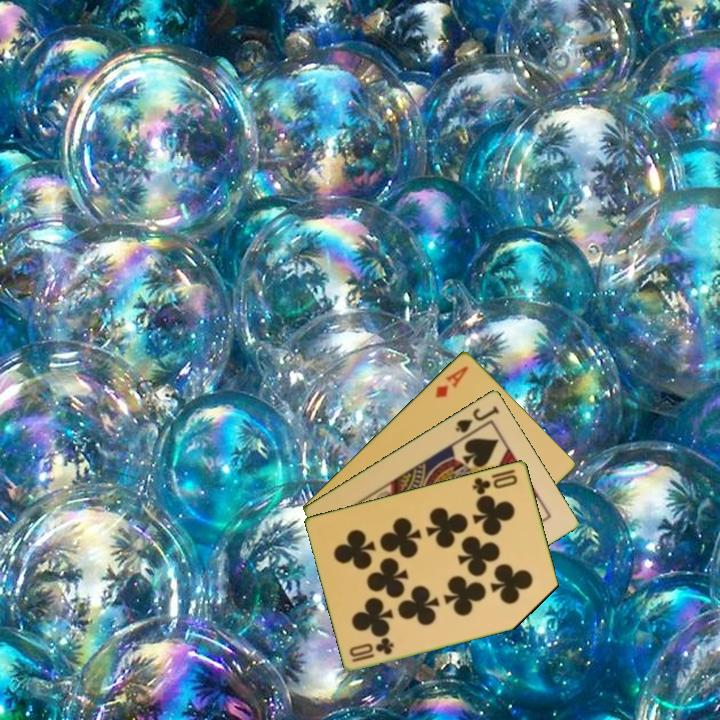10c: (346, 635, 397, 665), (469, 471, 521, 497)
Ad: (432, 362, 472, 401)
Js: (451, 402, 502, 435)
